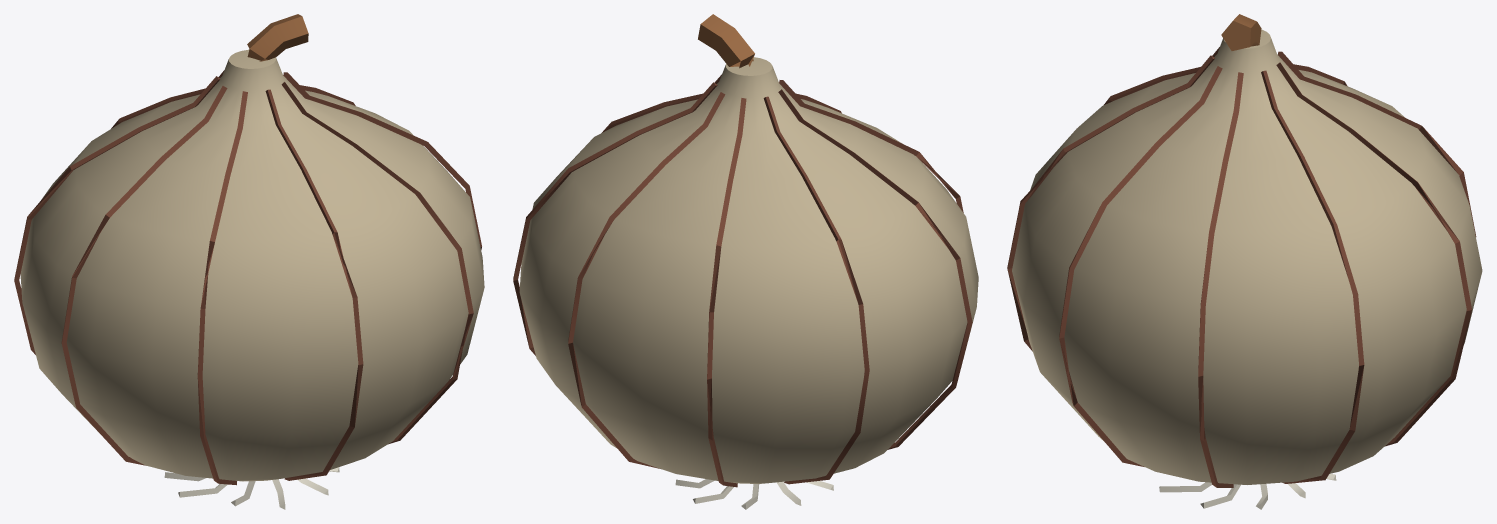
File: onion.glb
3 views of the same model, side by side, from view 1: azimuth 30°, elevation 25°; view 2: azimuth 150°, elevation 25°; view 3: azimuth 270°, elevation 25° (orthographic). The views are drawn at different scales.
Parts seen in each view (by area): view 1: body; view 2: body; view 3: body.
Part boxes in pixels (box(x1,y1,x2,y2)): body: box(14, 14, 484, 509); body: box(513, 14, 978, 509); body: box(1007, 14, 1482, 509).
Size of the model in its own units: 0.0877 by 0.0917 by 0.0826.
